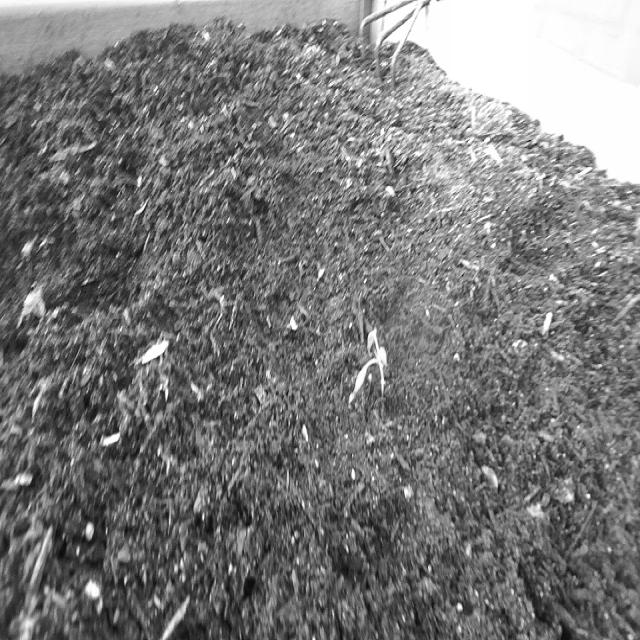Healthy: (348, 323, 390, 415)
